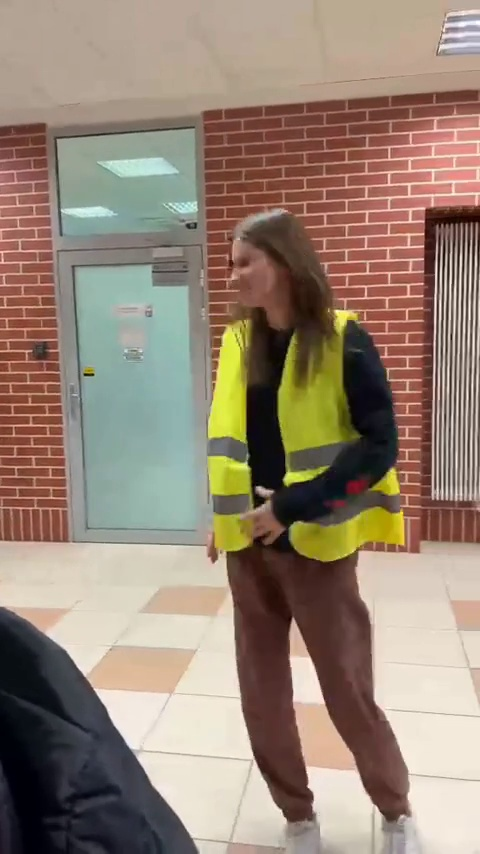vest: (189, 201, 438, 854)
